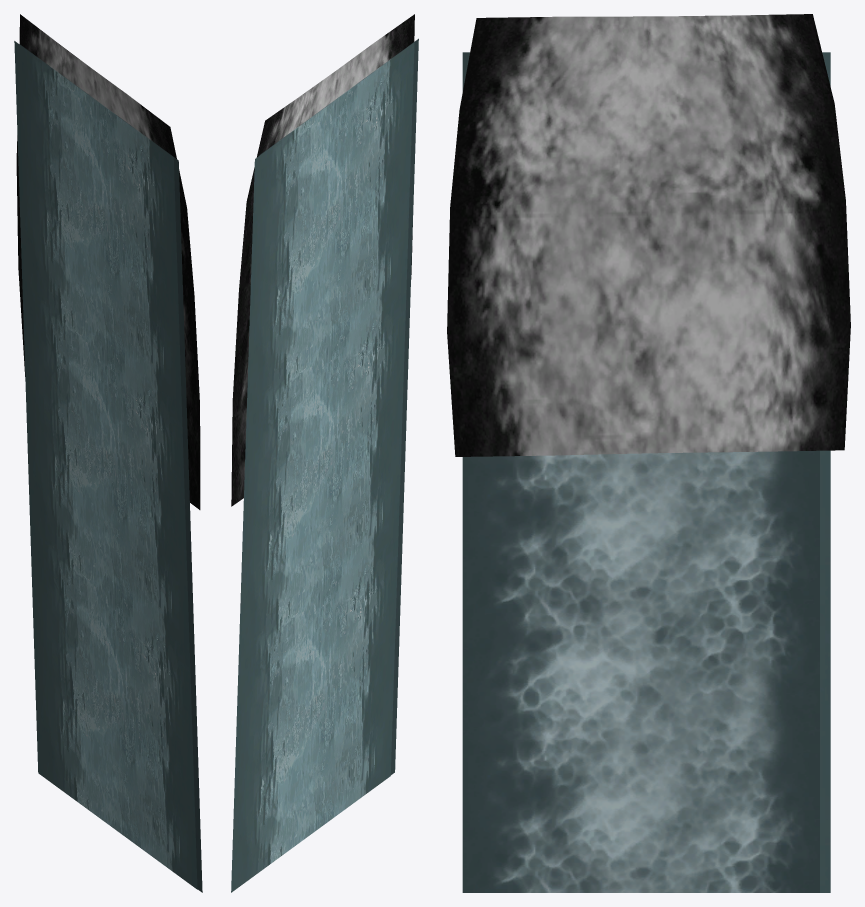
Rendered from waterfalls_set2_med_withchop.obj.
3 renders of one model, left to right at view 1: azimuth 30°, elevation 25°; view 2: azimuth 150°, elevation 25°; view 3: azimuth 270°, elevation 25°, orthographic. The views are drawn at different scales.
Visible parts, largest first — view 1: Geoset1, Geoset2, Geoset0; view 2: Geoset1, Geoset2, Geoset0; view 3: Geoset2, Geoset0, Geoset1.
Boxes of the visible parts, bbox=[...] form: Geoset1: bbox=[14, 41, 197, 889]; Geoset2: bbox=[16, 14, 200, 509]; Geoset0: bbox=[19, 44, 202, 892]; Geoset1: bbox=[231, 42, 414, 892]; Geoset2: bbox=[231, 14, 414, 506]; Geoset0: bbox=[259, 38, 418, 775]; Geoset2: bbox=[447, 14, 850, 456]; Geoset0: bbox=[462, 52, 819, 892]; Geoset1: bbox=[820, 52, 830, 892].
Size of the model in its own units: 1.88 by 52.36 by 22.17.
3 materials, 3 textured.
